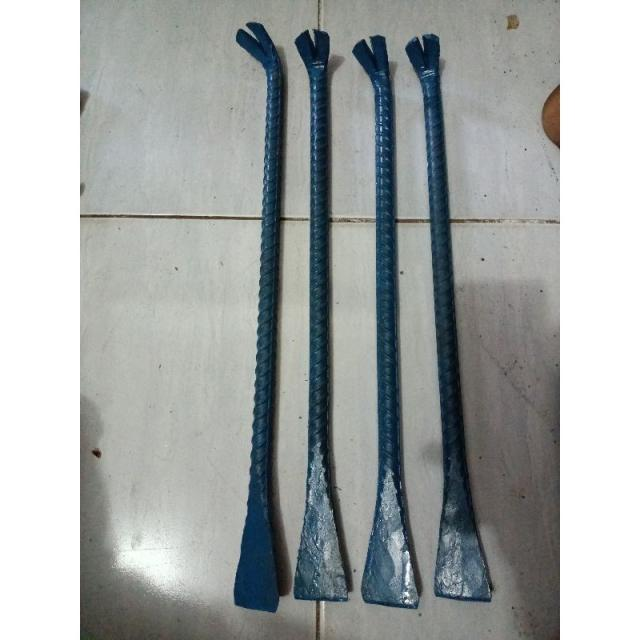Linggis: (236, 18, 289, 612)
